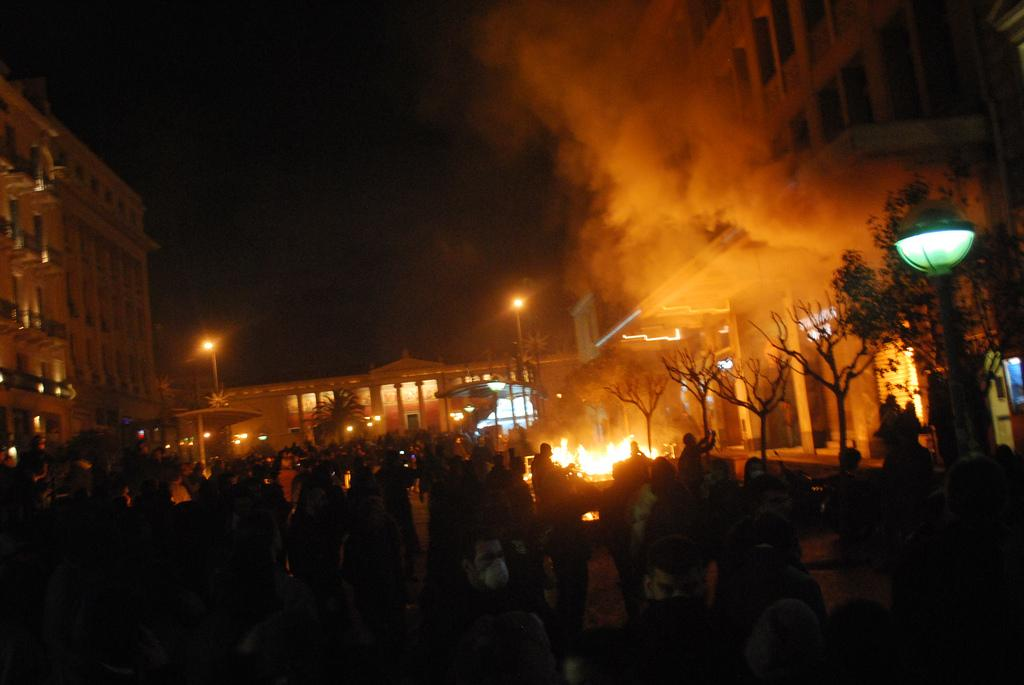fire: (560, 427, 652, 482)
